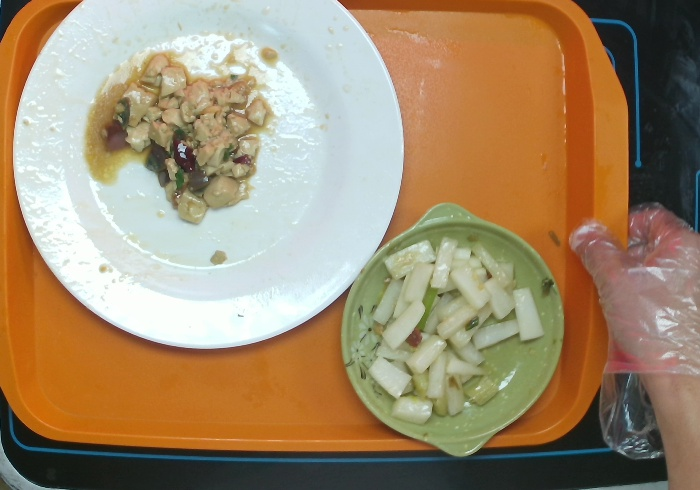NLDX-Da_Yuan_Pan: (9, 1, 409, 352)
NLDX-Lv_Hua_Shuang_Er_Die: (334, 197, 569, 464)
